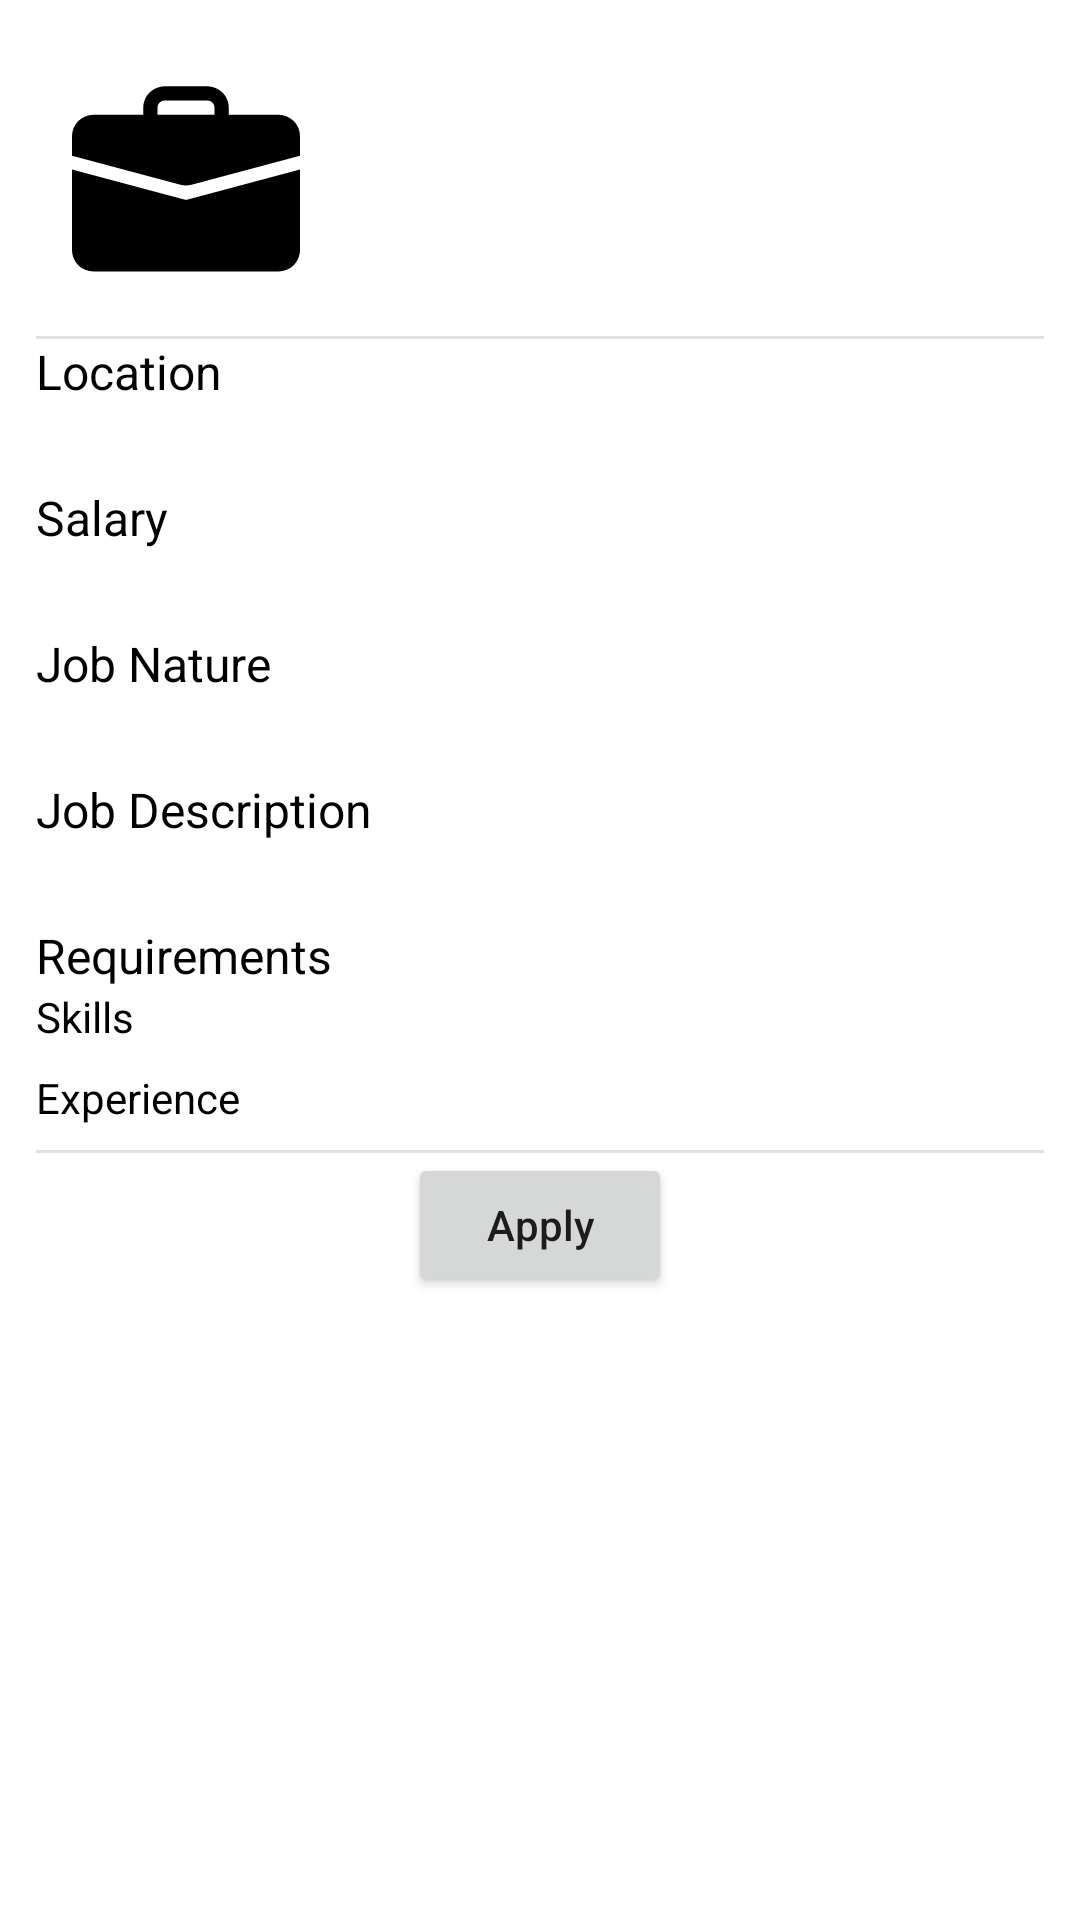

Icon bounding boxes for this 1080x1920 phone screenshot, format (x1, y1, x2, y2):
briefcase: (72, 86, 300, 272)
